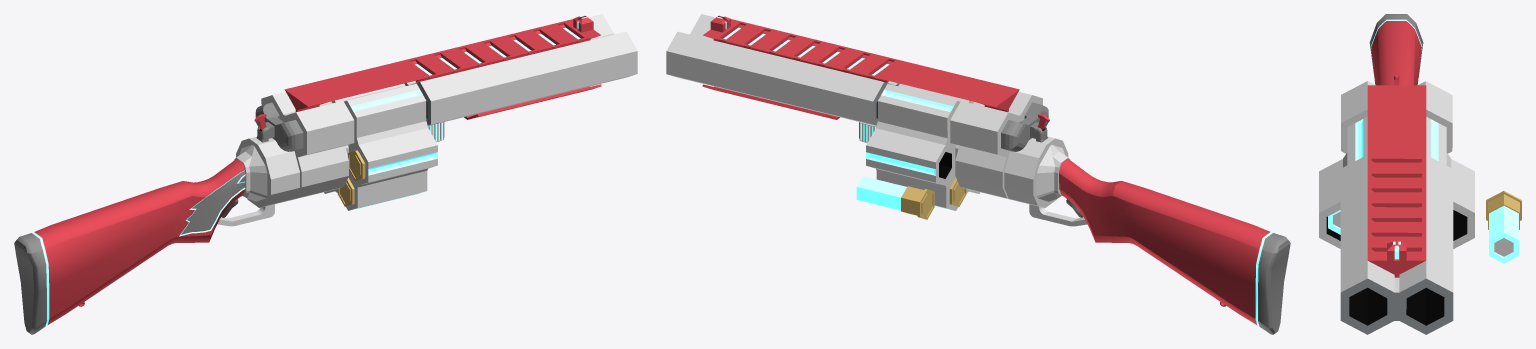
File: canonx3.fbx
The picture shows the model from 3 angles, left to right: view 1: azimuth 30°, elevation 25°; view 2: azimuth 150°, elevation 25°; view 3: azimuth 270°, elevation 25°; orthographic projection. The views are drawn at different scales.
Parts seen in each view (by area): view 1: Remington870.001, Cercle.001, Cercle, Cercle.008, Cercle.002, Cercle.007, Cercle.003, Cercle.009; view 2: Remington870.001, Cercle.001, Cercle, Cercle.008, Cercle.002, Cercle.007, Cercle.006, Cercle.003, Cercle.009; view 3: Cercle.001, Cercle.008, Cercle, Remington870.001, Cercle.002, Cercle.006, Cercle.012.
Part boxes in pixels (x1,y1,x2,y2): Remington870.001: (14, 159, 245, 334); Cercle.001: (404, 14, 637, 125); Cercle: (324, 83, 437, 210); Cercle.008: (284, 15, 600, 111); Cercle.002: (261, 92, 354, 200); Cercle.007: (217, 136, 299, 226); Cercle.003: (254, 102, 303, 151); Cercle.009: (464, 84, 601, 119); Remington870.001: (1059, 158, 1290, 334); Cercle.001: (666, 14, 899, 125); Cercle: (866, 83, 979, 210); Cercle.008: (703, 15, 1019, 112); Cercle.002: (950, 92, 1042, 199); Cercle.007: (1004, 136, 1087, 226); Cercle.006: (856, 176, 934, 219); Cercle.003: (1001, 102, 1049, 151); Cercle.009: (702, 84, 839, 119); Cercle.001: (1340, 155, 1453, 334); Cercle.008: (1367, 85, 1426, 277); Cercle: (1319, 117, 1474, 248); Remington870.001: (1369, 14, 1423, 85); Cercle.002: (1341, 81, 1452, 153); Cercle.006: (1486, 191, 1521, 263); Cercle.012: (1328, 210, 1340, 234).
Size of the model in its own units: 3065 by 892 by 739.
